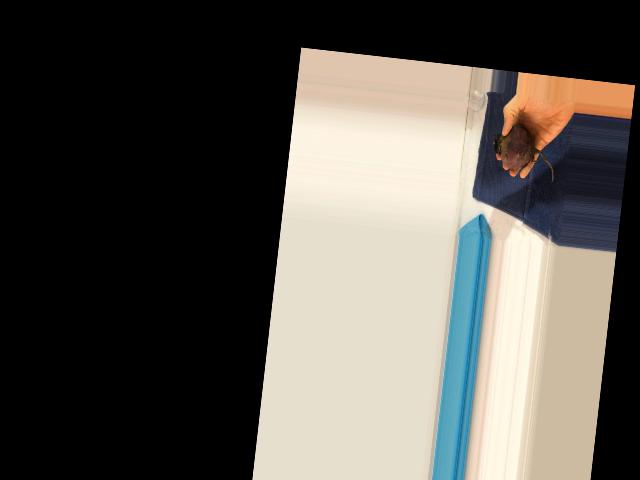beet: (489, 122, 559, 184)
